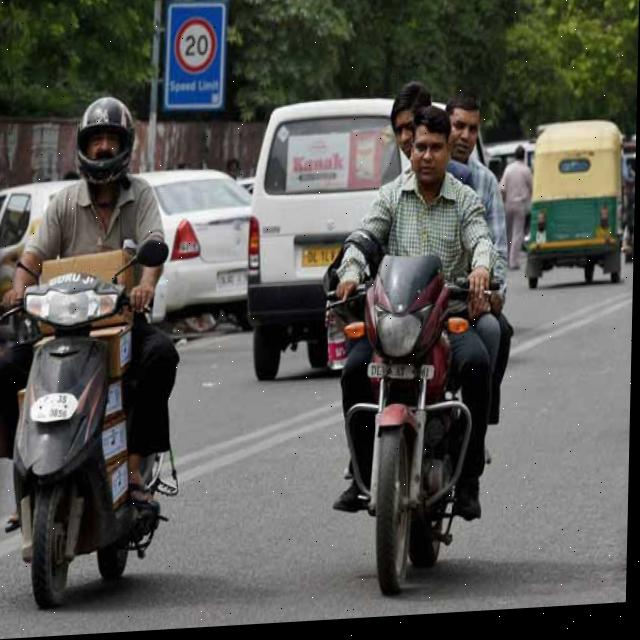without helmet: (387, 71, 486, 199)
